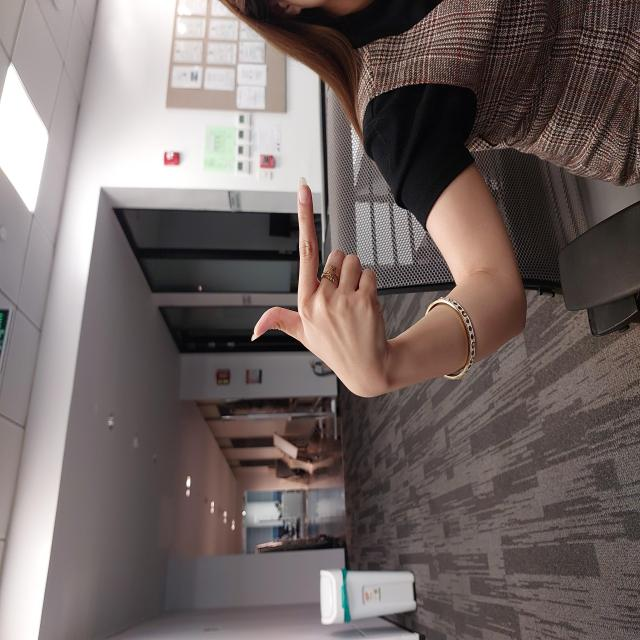G: (240, 248, 465, 395)
